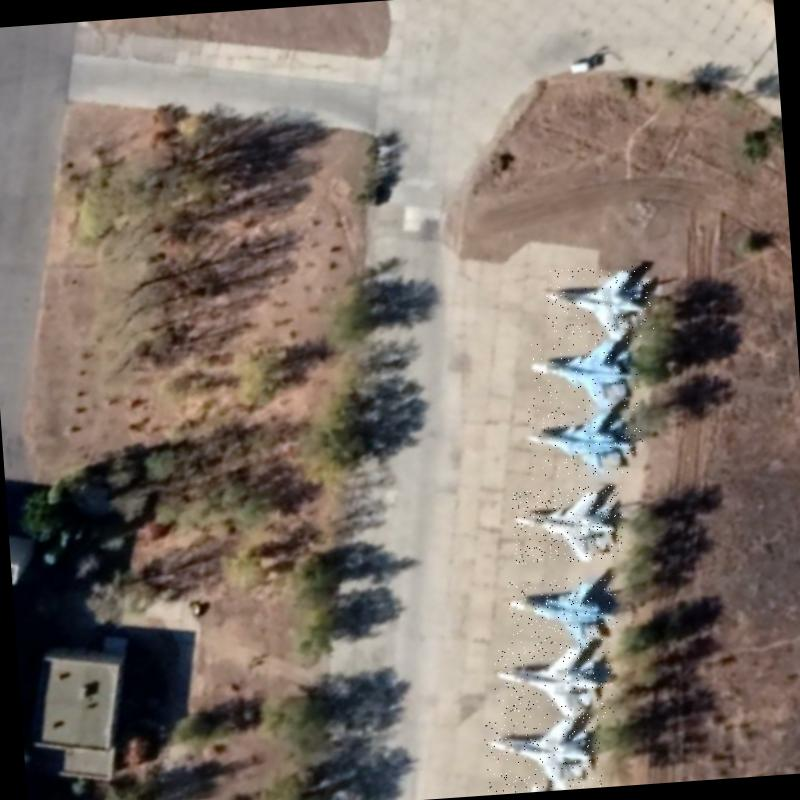A1: (492, 641, 614, 725), (482, 710, 602, 794), (544, 262, 654, 346), (507, 574, 619, 654)
A19: (524, 400, 644, 479), (510, 484, 626, 565), (526, 332, 642, 412)
